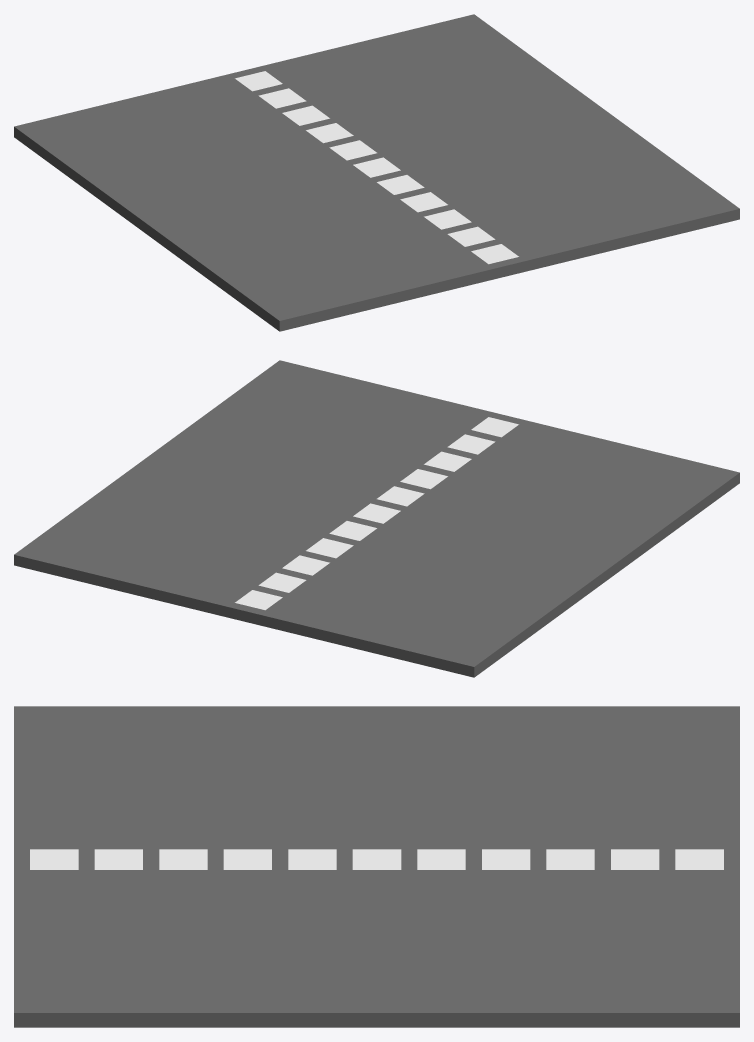
File: Road.obj
3 views of the same model, one above another, from view 1: azimuth 30°, elevation 25°; view 2: azimuth 150°, elevation 25°; view 3: azimuth 270°, elevation 25° (orthographic). The views are drawn at different scales.
Size of the model in its own units: 4.5 by 0.1 by 4.5.
1 material, 1 textured.
